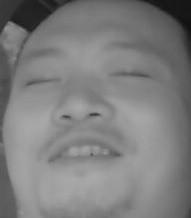blink: (110, 66, 147, 87), (26, 68, 58, 91)
mouth: (45, 132, 122, 171)
